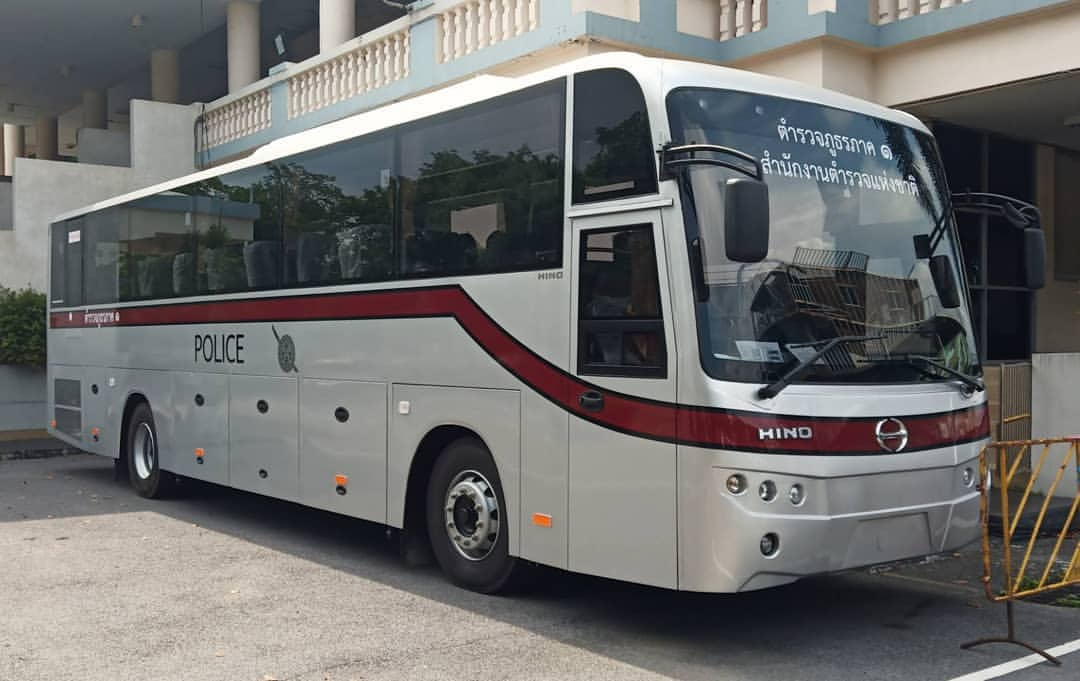bus: (41, 49, 992, 599)
